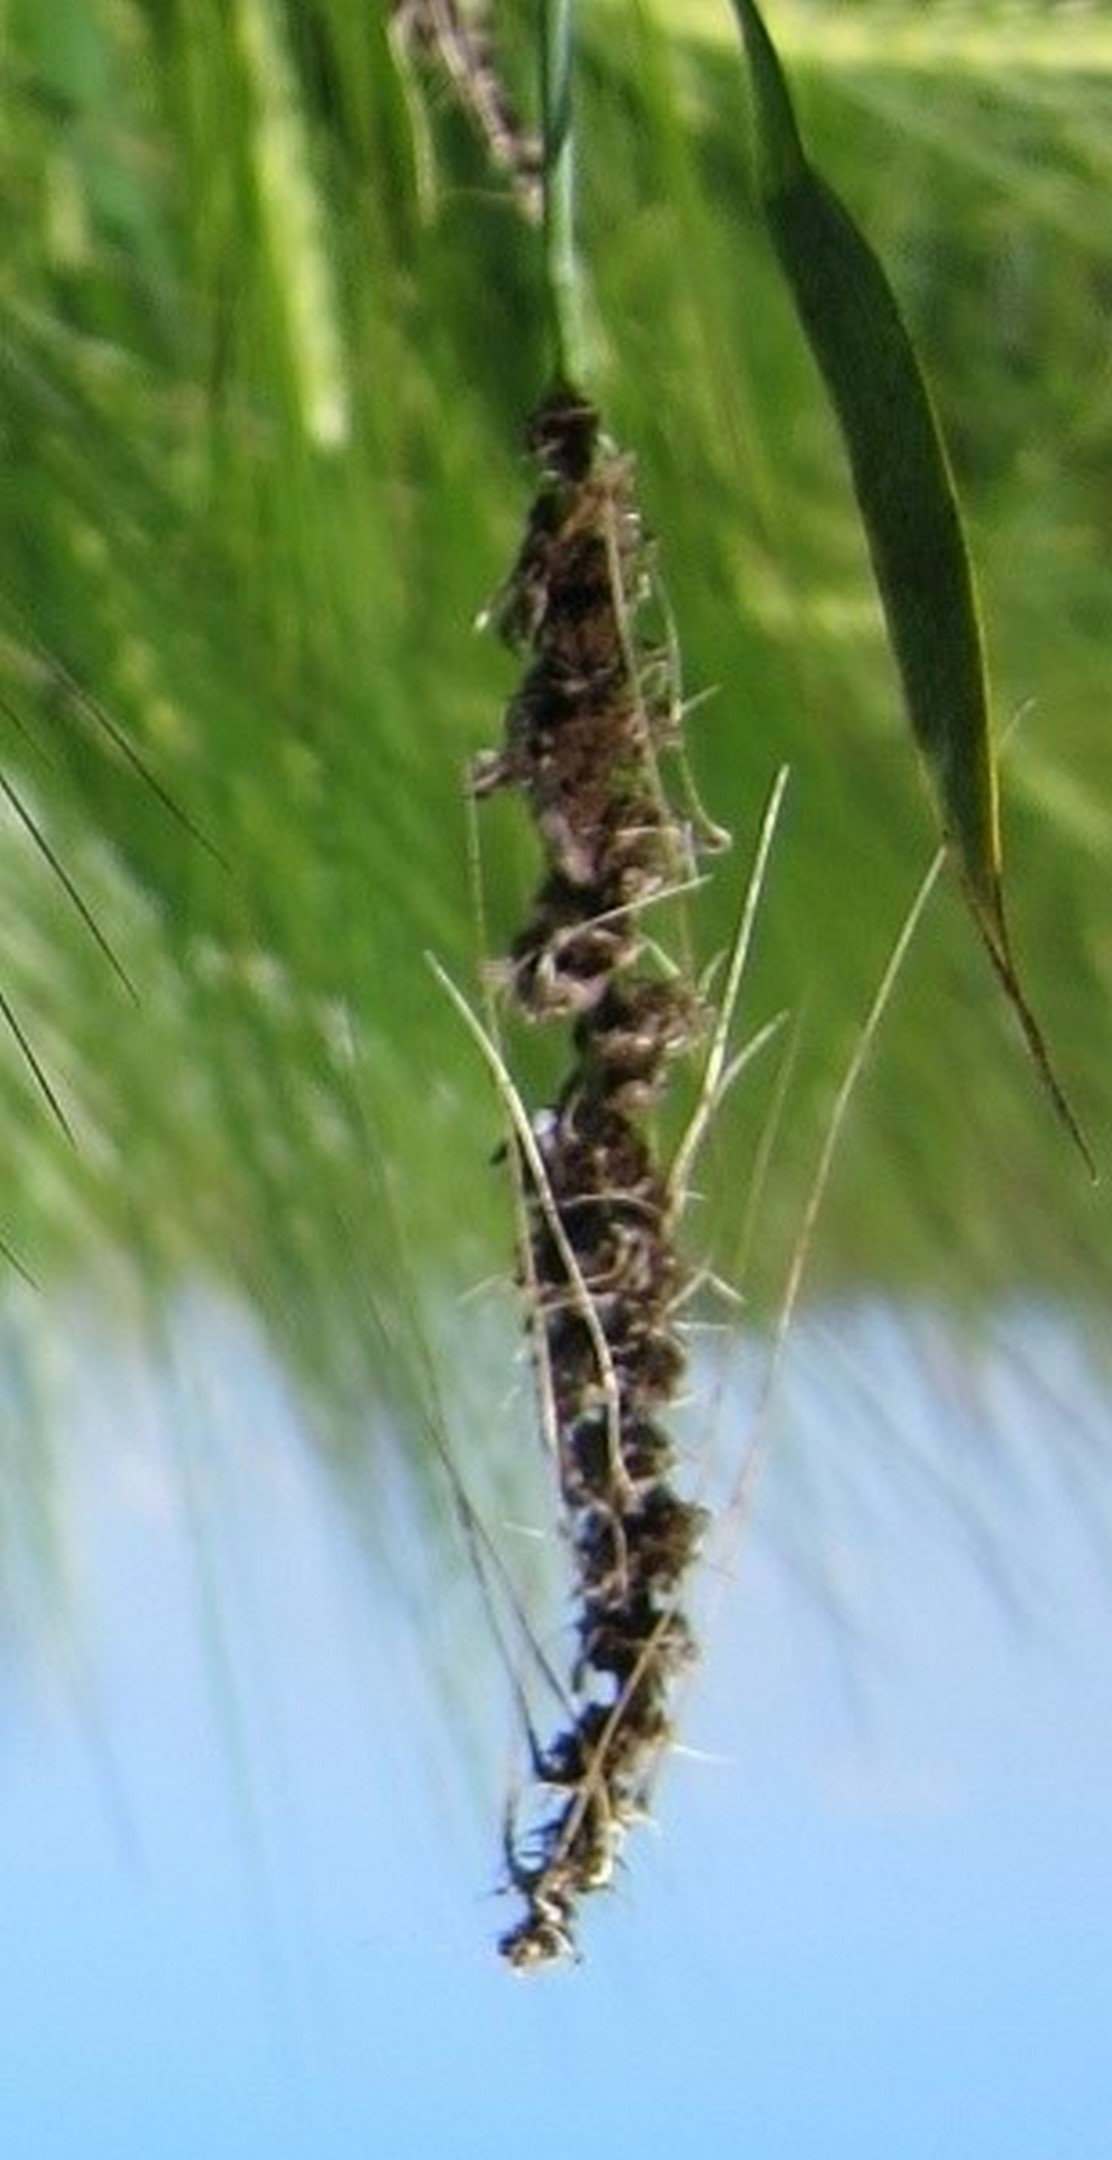Wheat Loose Smut: (440, 406, 790, 1995)
